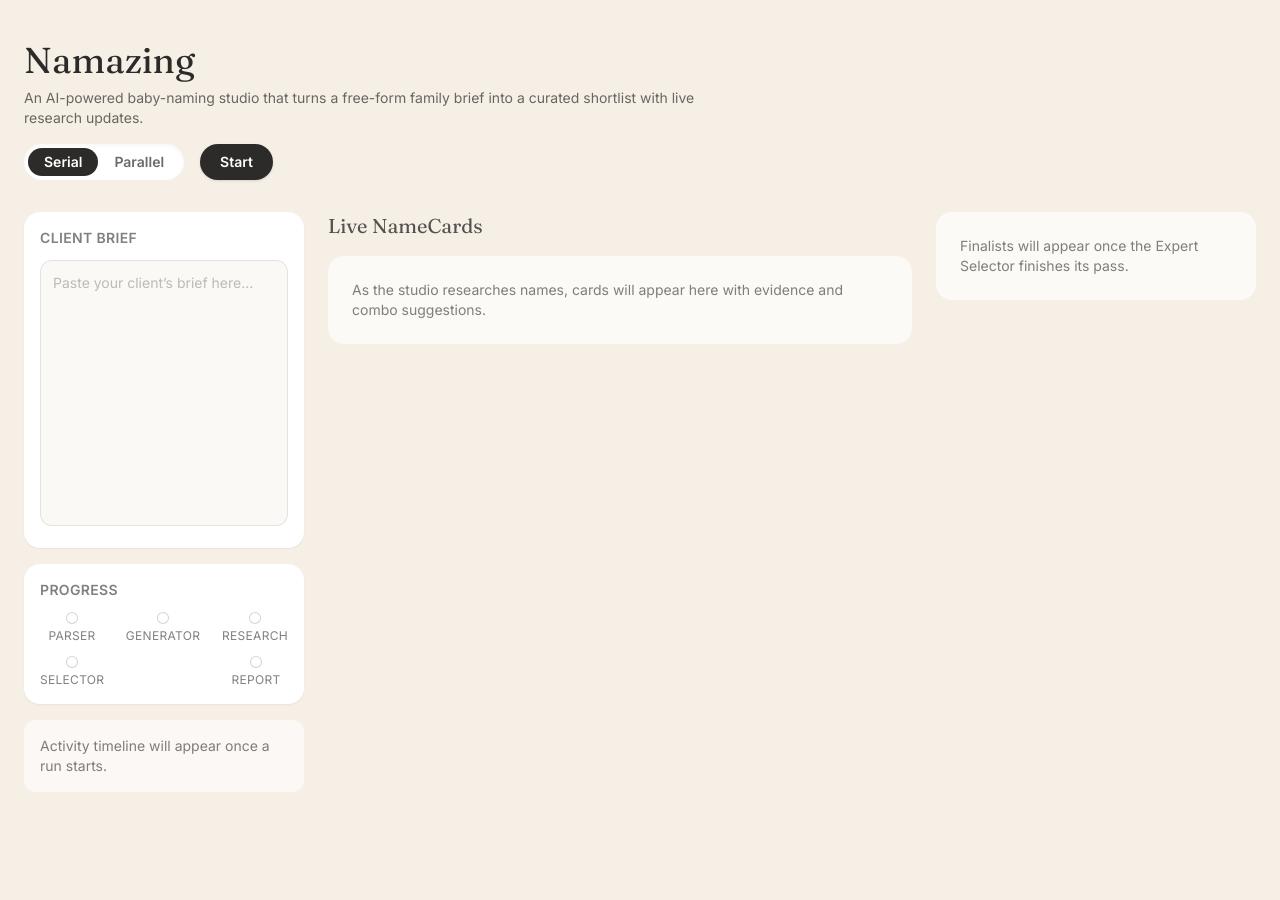
Test: StudioApp › SSE event handling › handles card partial events
Type "Test brief" into the text box with placeholder "Paste your client’s brief here..." at (164, 393), box [40,260,288,526]
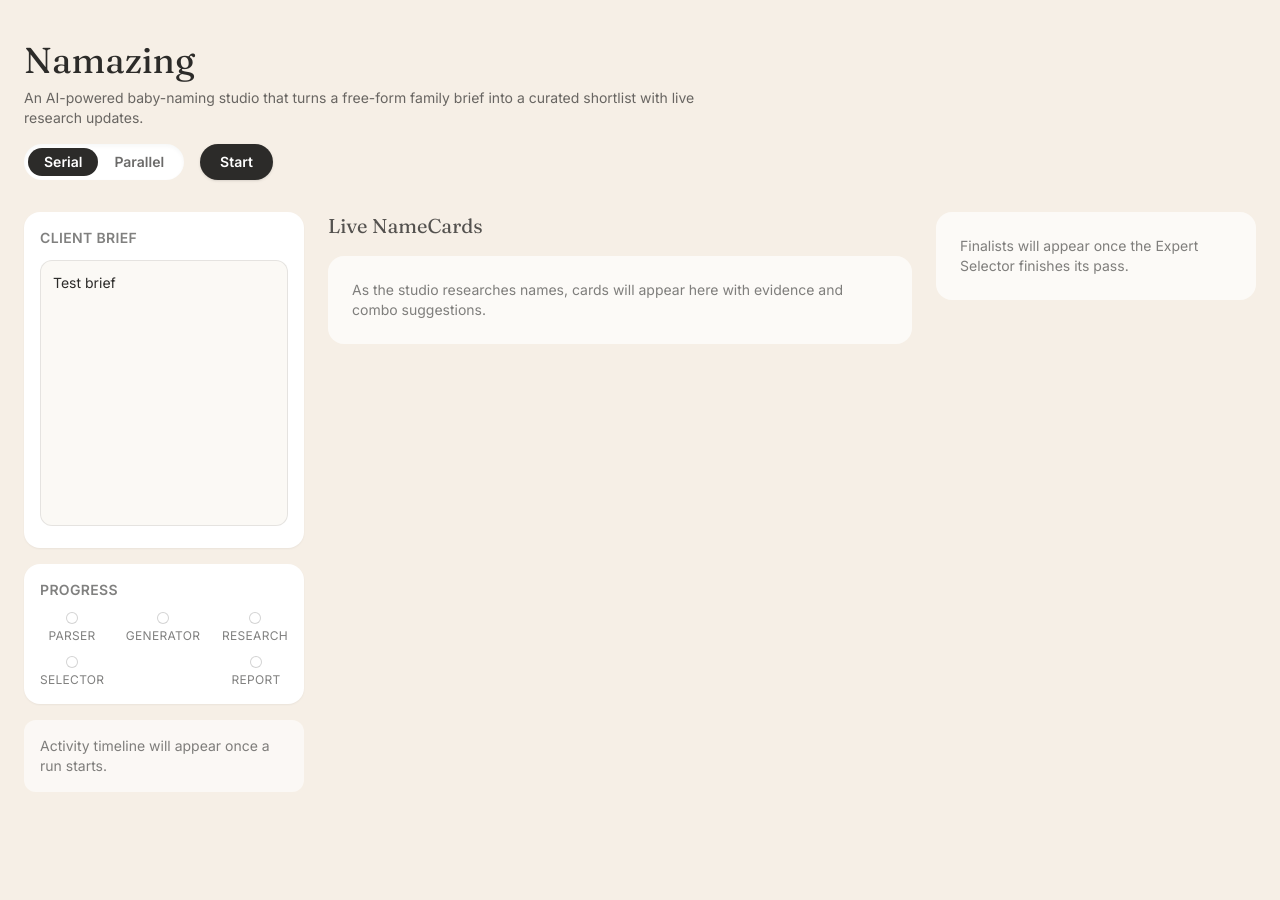
Click the button "Start" at (237, 162), box [200,144,273,180]
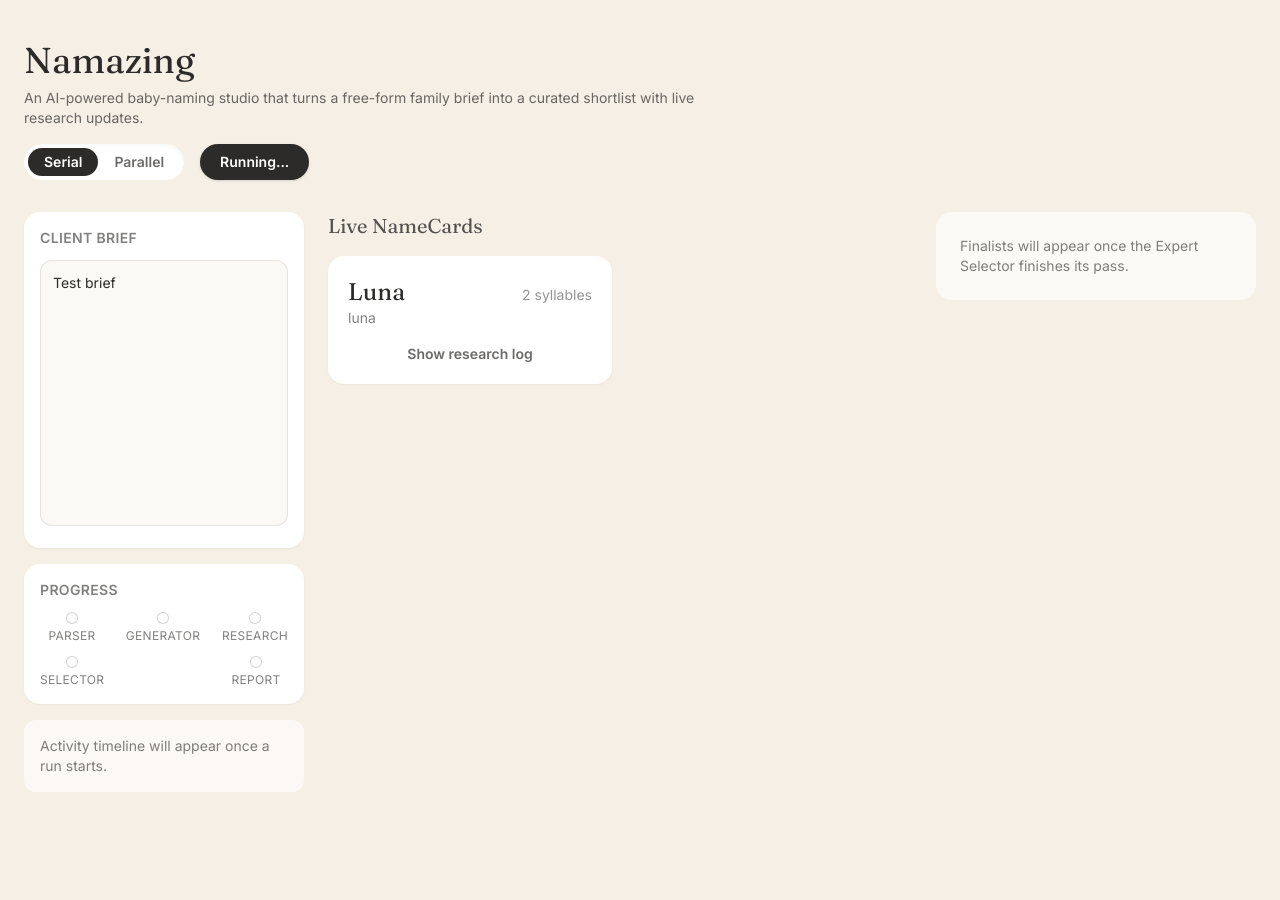
Check: the heading "Luna" is shown, box [348,276,405,308]
